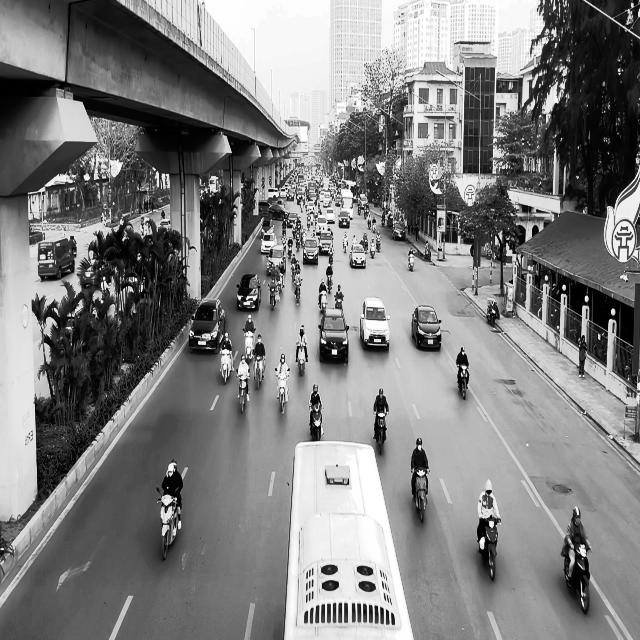car: (189, 298, 226, 354), (318, 308, 350, 363), (360, 296, 391, 351), (412, 305, 442, 350), (236, 273, 262, 311), (81, 259, 112, 289), (266, 244, 286, 276), (303, 238, 319, 264), (350, 243, 366, 268), (392, 220, 406, 240)
motorbike: (562, 544, 592, 614), (157, 486, 182, 560), (477, 516, 501, 580), (412, 466, 430, 523), (275, 368, 290, 413), (374, 410, 388, 454), (309, 402, 324, 441), (237, 372, 250, 414), (220, 347, 233, 384), (253, 352, 266, 388), (243, 329, 256, 362), (457, 364, 469, 399), (487, 298, 498, 326), (408, 255, 414, 271)
